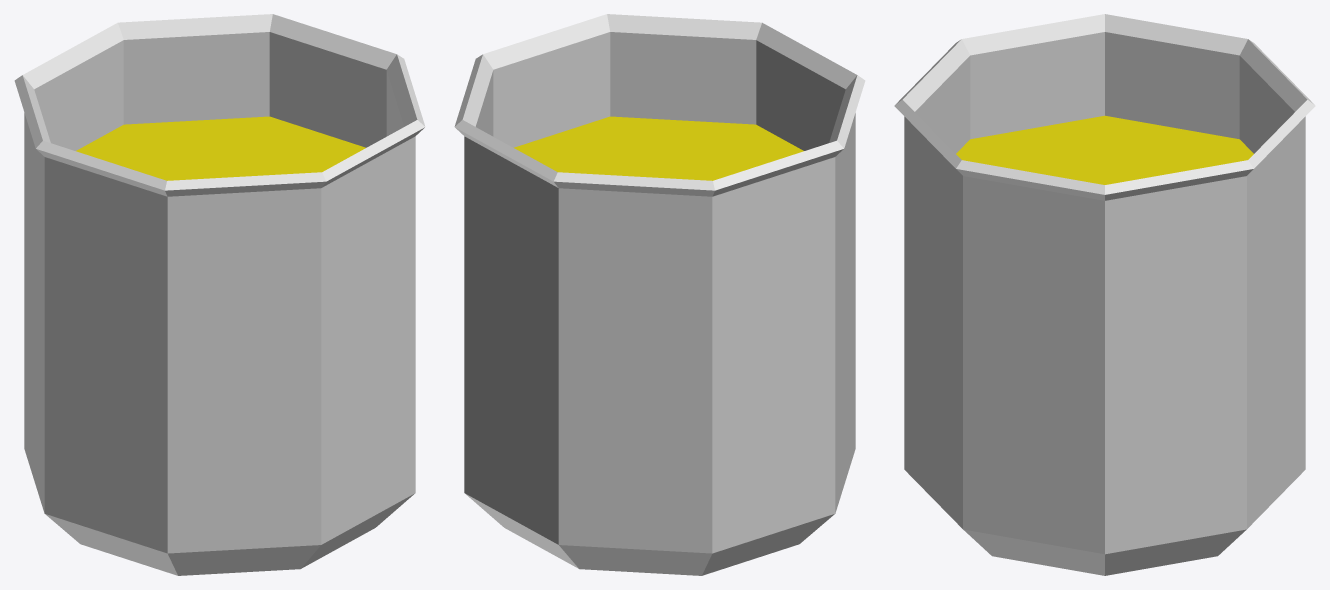
Rendered from Potion C.fbx.
3 renders of one model, left to right at view 1: azimuth 30°, elevation 25°; view 2: azimuth 150°, elevation 25°; view 3: azimuth 270°, elevation 25°, orthographic.
Parts seen in each view (by area): view 1: Cylinder.035, Cylinder.036; view 2: Cylinder.035, Cylinder.036; view 3: Cylinder.035, Cylinder.036.
Boxes of the visible parts, <box> form: Cylinder.035: <box>14,14,425,575</box>; Cylinder.036: <box>76,116,365,180</box>; Cylinder.035: <box>454,14,865,575</box>; Cylinder.036: <box>514,116,803,180</box>; Cylinder.035: <box>894,14,1315,575</box>; Cylinder.036: <box>956,115,1253,184</box>.
Size of the model in its own units: 33.32 by 35.66 by 33.32.
2 materials, 2 textured.
